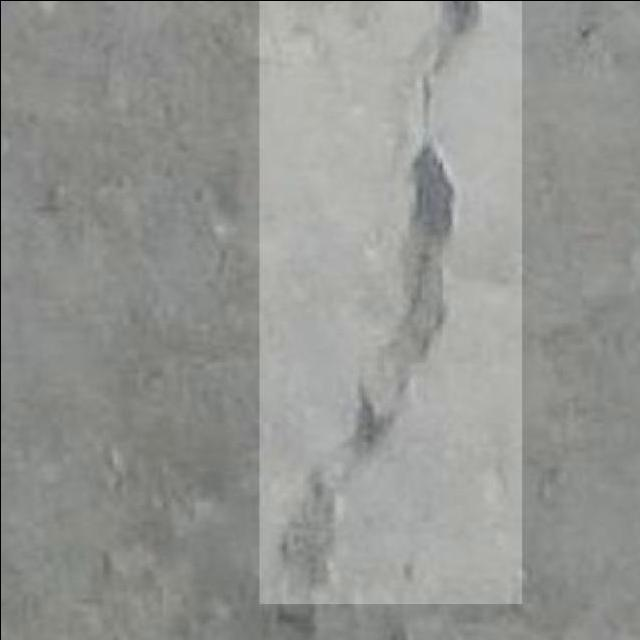SurfaceCrack: (262, 0, 518, 616)
